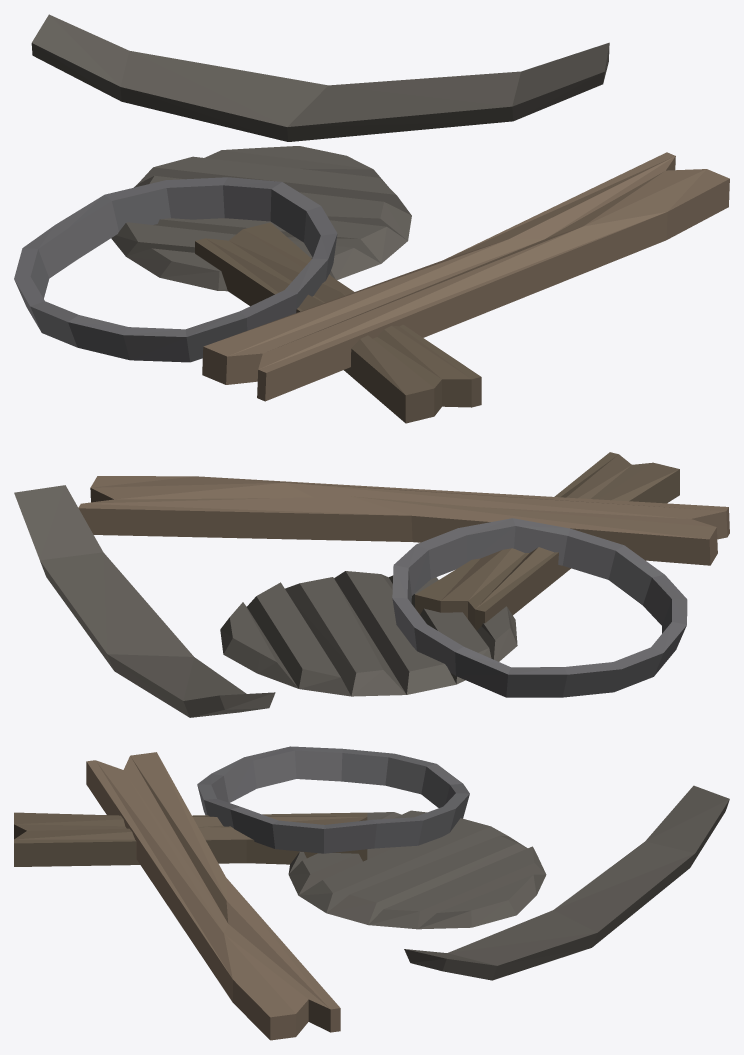
Rendered from SM_Prop_Debris_01.glb.
The picture shows the model from 3 angles, top to bottom: view 1: azimuth 30°, elevation 25°; view 2: azimuth 150°, elevation 25°; view 3: azimuth 270°, elevation 25°; orthographic projection. The views are drawn at different scales.
Parts seen in each view (by area): view 1: SM_Prop_Debris_01_part00; view 2: SM_Prop_Debris_01_part00; view 3: SM_Prop_Debris_01_part00.
Boxes of the visible parts, bbox=[...] form: SM_Prop_Debris_01_part00: bbox=[14, 14, 729, 423]; SM_Prop_Debris_01_part00: bbox=[14, 452, 729, 717]; SM_Prop_Debris_01_part00: bbox=[14, 746, 729, 1040].
Bounding box in the file's own units: 1.4 × 0.1855 × 1.58.
1 material, 1 textured.
